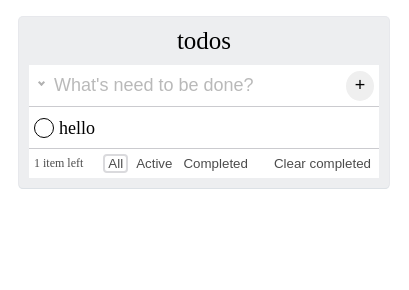
clear completed task(s) when the user clicks cleat completed button in todolist
Expected: the button with test id "clear button" is shown, 271,156 -> 374,171
Expected: the number of elements with test id "task" is 1, 29,107 -> 379,149
Type "new task" into the field with test id "todolist input".
click(182, 86); type("new task")  # box 29,65 -> 336,106
Click the button with test id "add a new task btn".
click(360, 86)  # box 346,70 -> 374,100
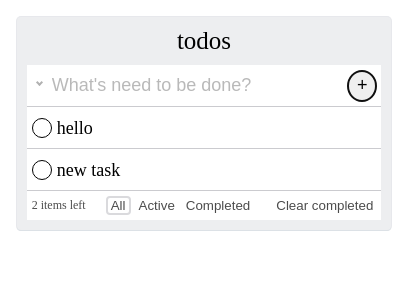
Expected: the number of elements with test id "task" is 2, 27,107 -> 381,149; 27,149 -> 381,191
Type "new task 2" into the field with test id "todolist input".
click(182, 86); type("new task 2")  # box 27,65 -> 338,106
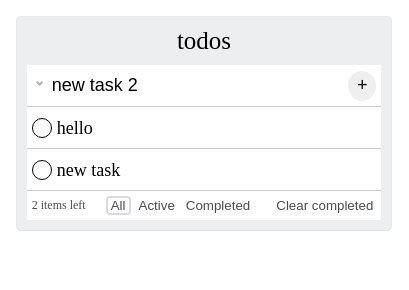
Click the button with test id "add a new task btn".
click(362, 86)  # box 348,70 -> 376,100
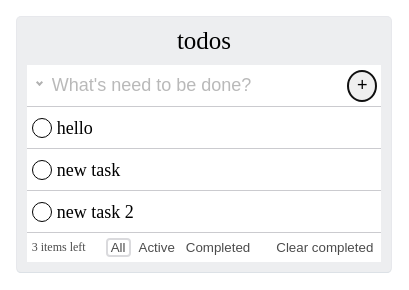
Expected: the 2nd checkbox with test id "checkbox task" is shown, 32,160 -> 52,180
Expected: the number of elements with test id "task" is 3, 27,107 -> 381,149; 27,149 -> 381,191; 27,191 -> 381,233
Click the checkbox with test id "checkbox task" next to "hello".
click(42, 128)  # box 32,118 -> 52,138
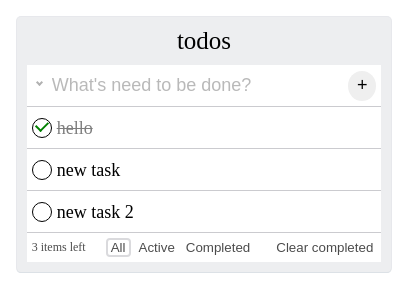
Expected: the checkbox with test id "checkbox task" next to "hello" is checked, 32,118 -> 52,138
Click the 2nd checkbox with test id "checkbox task".
click(42, 170)  # box 32,160 -> 52,180
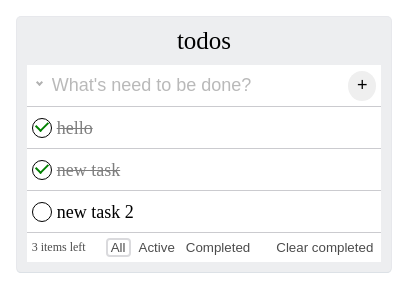
Expected: the 2nd checkbox with test id "checkbox task" is checked, 32,160 -> 52,180
Click the button with test id "clear button".
click(325, 248)  # box 273,240 -> 376,255
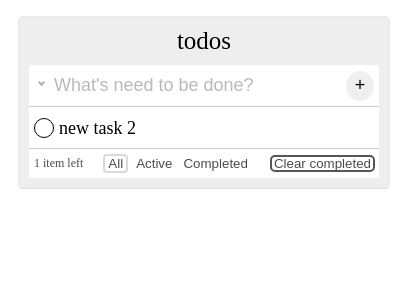
Expected: the number of elements with test id "task" is 1, 29,107 -> 379,149
